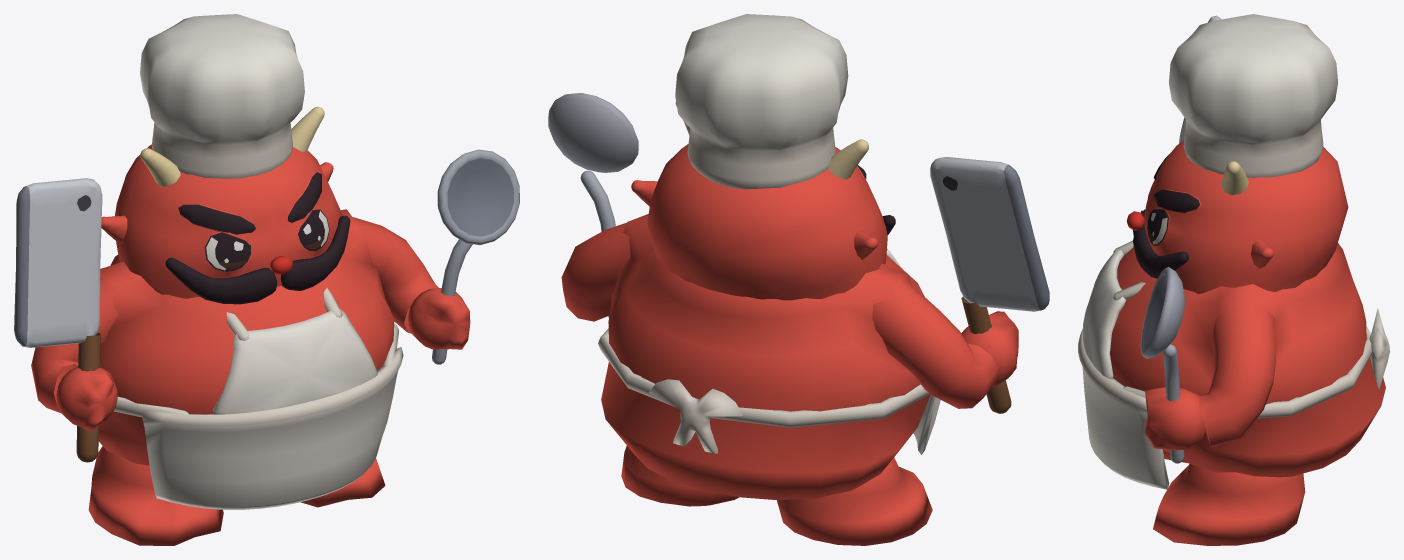
Rendered from oni-chef.glb.
The picture shows the model from 3 angles, left to right: view 1: azimuth 30°, elevation 25°; view 2: azimuth 150°, elevation 25°; view 3: azimuth 270°, elevation 25°; orthographic projection. The views are drawn at different scales.
Visible parts, largest first — view 1: body; view 2: body; view 3: body.
Boxes of the visible parts, <box> form: body: <box>14,14,519,545</box>; body: <box>548,14,1049,545</box>; body: <box>1078,14,1389,545</box>.
Size of the model in its own units: 2.02 by 1.81 by 1.12.
